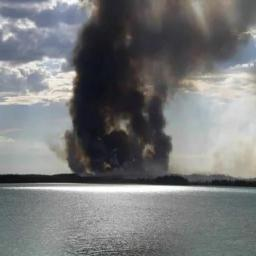Heavy smoke: (57, 0, 251, 183)
